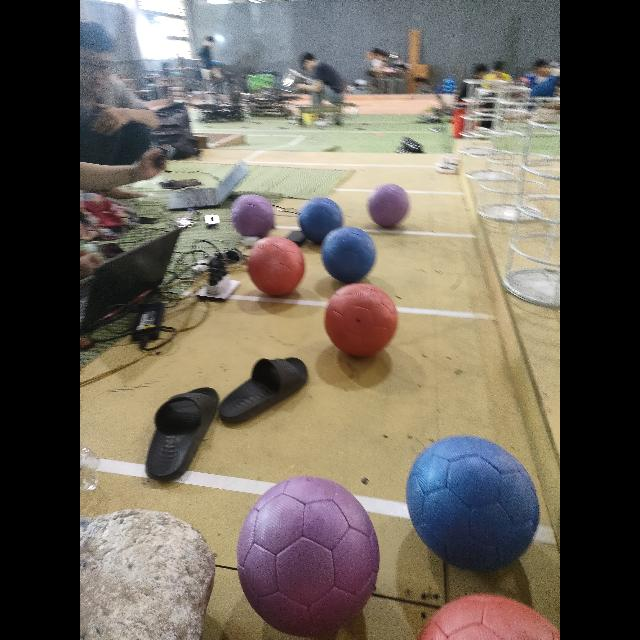B: (406, 436, 540, 572), (322, 227, 376, 283)
P: (237, 477, 379, 638), (230, 195, 274, 238), (368, 184, 408, 226)
R: (418, 594, 560, 640), (325, 283, 397, 357), (248, 237, 304, 295)
